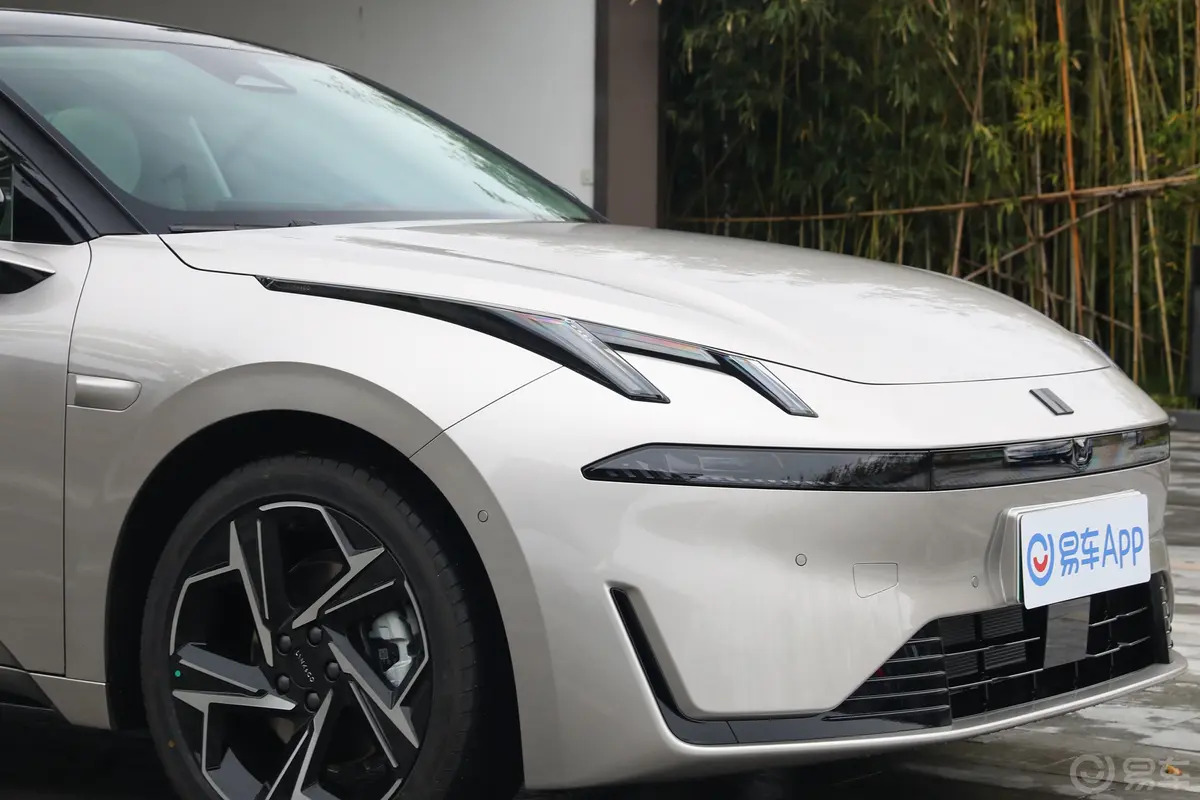LINK&CO: (1030, 388, 1073, 415)
